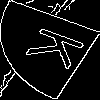K: (25, 25, 98, 76)
